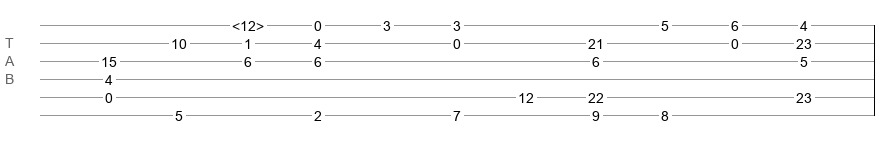0: (105, 90, 113, 100), (314, 18, 322, 28), (453, 36, 461, 46), (731, 36, 739, 46)
1: (244, 36, 252, 46)
10: (171, 36, 187, 46)
12: (518, 90, 534, 100)
15: (101, 54, 117, 64)
2: (314, 108, 322, 118)
21: (588, 36, 604, 46)
22: (588, 90, 604, 100)
23: (796, 36, 812, 46), (796, 90, 812, 100)
3: (383, 18, 391, 28), (453, 18, 461, 28)
4: (105, 72, 113, 82), (314, 36, 322, 46), (800, 18, 808, 28)
5: (175, 108, 183, 118), (661, 18, 669, 28), (800, 54, 808, 64)
6: (244, 54, 252, 64), (314, 54, 322, 64), (592, 54, 600, 64), (731, 18, 739, 28)
7: (453, 108, 461, 118)
8: (661, 108, 669, 118)
9: (592, 108, 600, 118)
harmonic: (232, 18, 264, 28)
